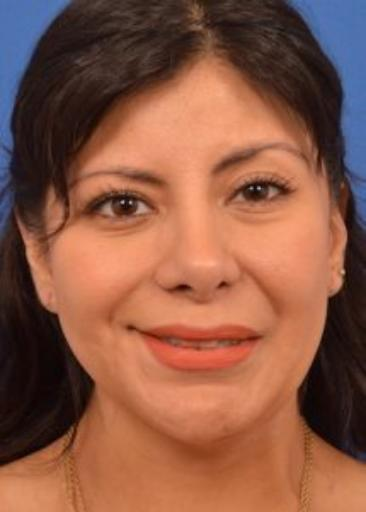left_eye: (225, 176, 294, 207)
left_lip_corner: (250, 331, 272, 344)
right_eye: (83, 192, 162, 220)
right_lip_corner: (120, 322, 142, 334)
